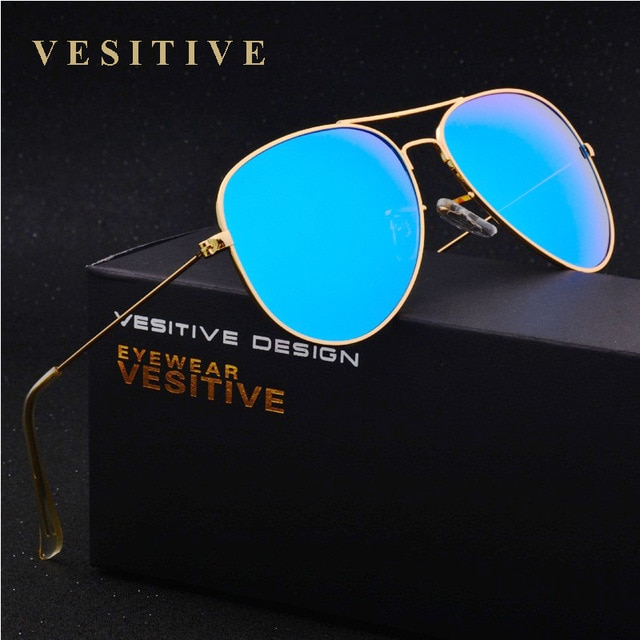sunglasses: (137, 63, 628, 339)
